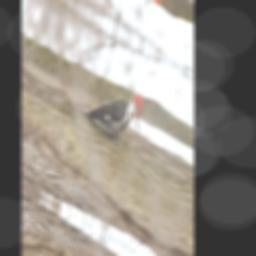Woodpecker: (73, 61, 145, 160)
